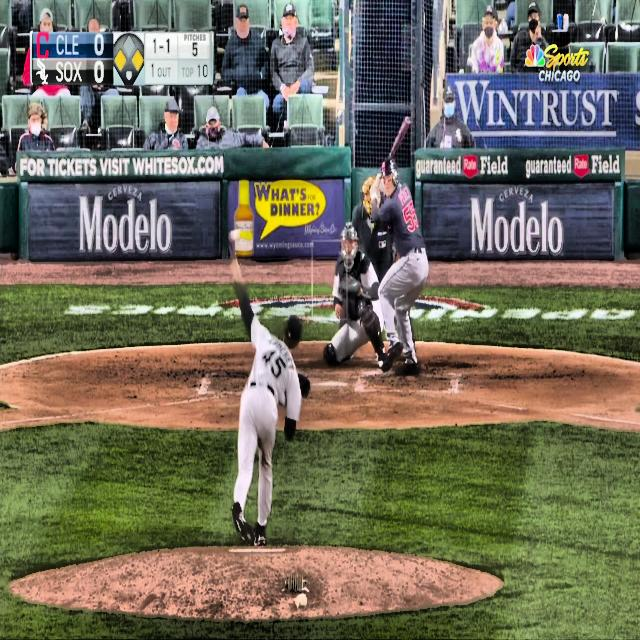baseball: (228, 228, 242, 243)
